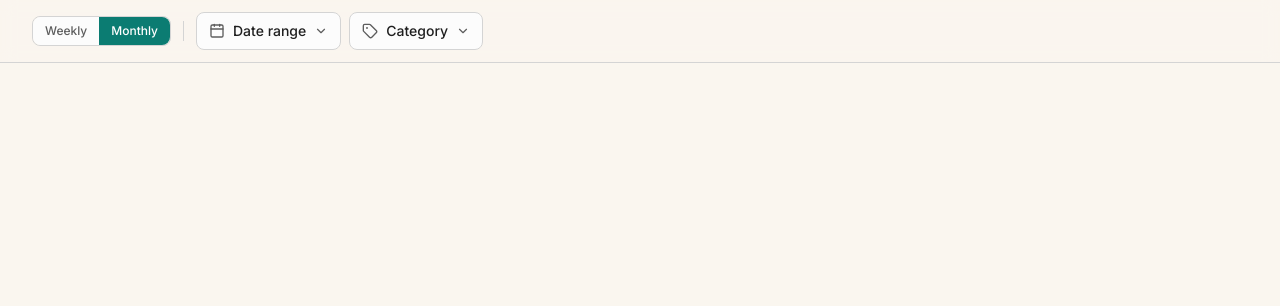
Test: FilterBar › date range dropdown › opens listbox on click
Click the button with aria-label "filter by date range": (269, 31) [196,12,341,50]
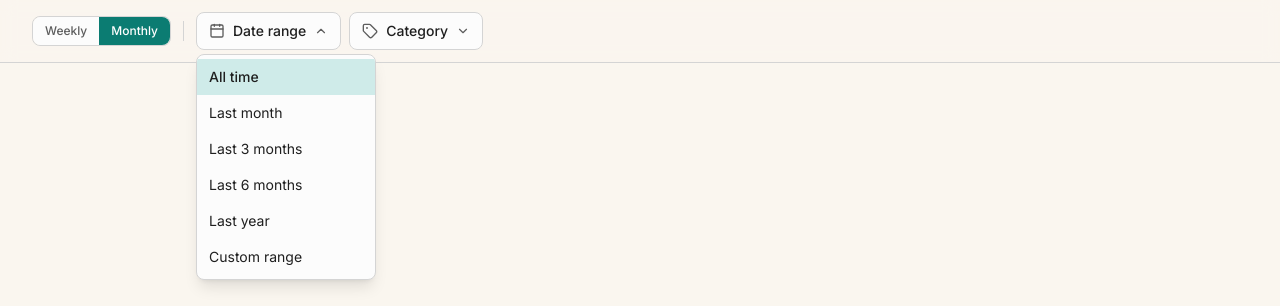
Check: the list named "Date range" is shown, box [196,54,376,280]
Check: the option "All time" is shown, box [197,59,375,95]
Check: the option "Last month" is shown, box [209,104,282,121]
